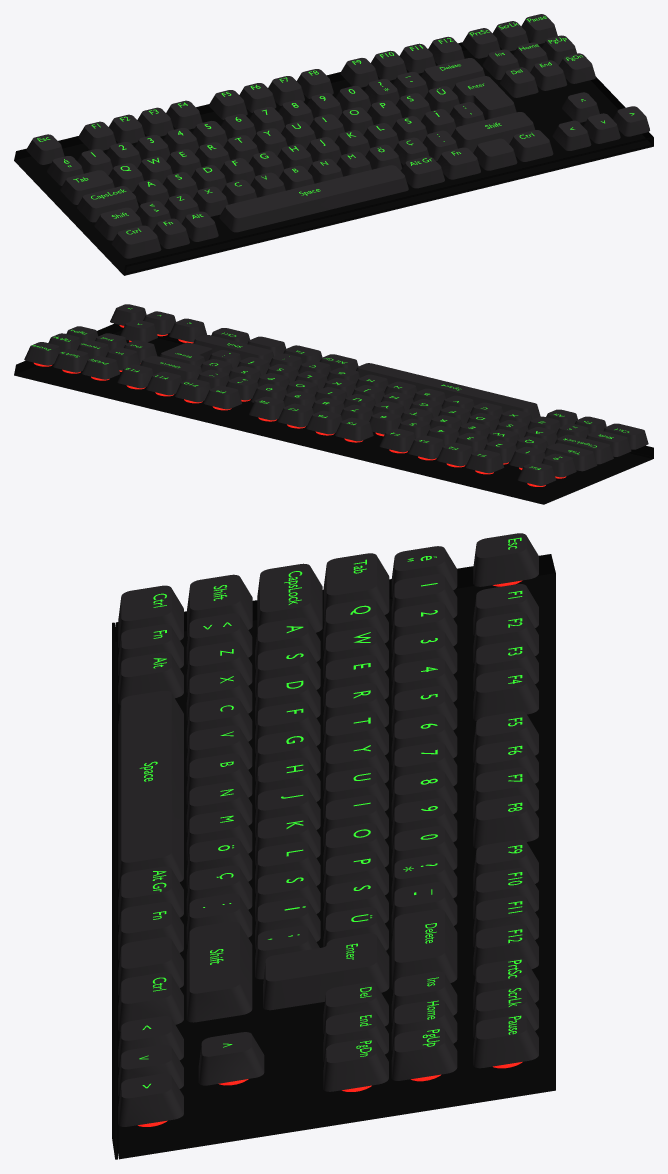
Rendered from keyboard-hero.glb.
The picture shows the model from 3 angles, top to bottom: view 1: azimuth 30°, elevation 25°; view 2: azimuth 150°, elevation 25°; view 3: azimuth 270°, elevation 25°; orthographic projection. The views are drawn at different scales.
Visible parts, largest first — view 1: Object_9, Object_4, Object_8, Text.002_3; view 2: Object_9, Object_4, Object_8, Object_6, Text.002_3; view 3: Object_9, Object_4, Object_8, Text.002_3.
Boxes of the visible parts, left/top/right/bottom form: Object_9: left=26, top=14, right=649, bottom=258; Object_4: left=14, top=39, right=653, bottom=275; Object_8: left=37, top=16, right=634, bottom=234; Text.002_3: left=77, top=186, right=138, bottom=222; Object_9: left=24, top=304, right=648, bottom=485; Object_4: left=14, top=323, right=653, bottom=504; Object_8: left=32, top=308, right=628, bottom=469; Object_6: left=34, top=325, right=566, bottom=486; Text.002_3: left=555, top=434, right=613, bottom=464; Object_9: left=118, top=533, right=538, bottom=1126; Object_4: left=112, top=554, right=555, bottom=1159; Object_8: left=139, top=537, right=522, bottom=1088; Text.002_3: left=257, top=563, right=322, bottom=632.
Size of the model in its own units: 4.65 by 0.5033 by 1.69.
